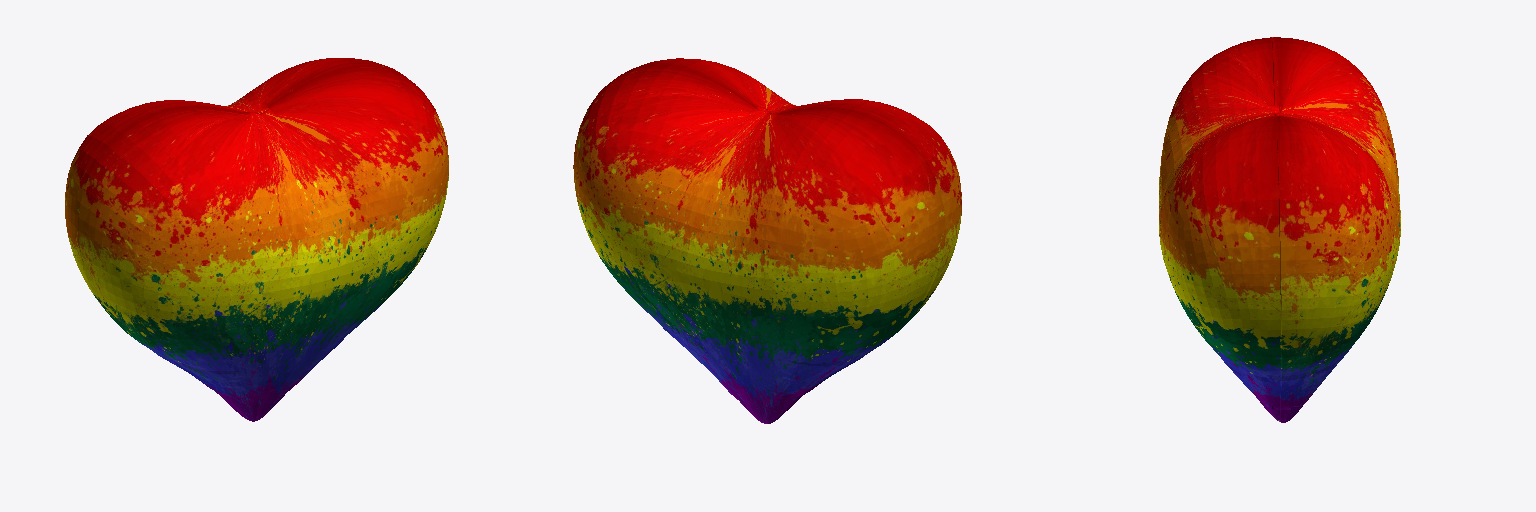
3 views of the same model, side by side, from view 1: azimuth 30°, elevation 25°; view 2: azimuth 150°, elevation 25°; view 3: azimuth 270°, elevation 25° (orthographic).
Parts seen in each view (by area): view 1: _Heart_v3:_Heart1; view 2: _Heart_v3:_Heart1; view 3: _Heart_v3:_Heart1.
Boxes of the visible parts, <box> form: _Heart_v3:_Heart1: <box>65,58,448,421</box>; _Heart_v3:_Heart1: <box>573,58,961,423</box>; _Heart_v3:_Heart1: <box>1159,37,1400,422</box>.
Size of the model in its own units: 4.03 by 3.6 by 2.38.
Materials: 1 (1 with a texture image).